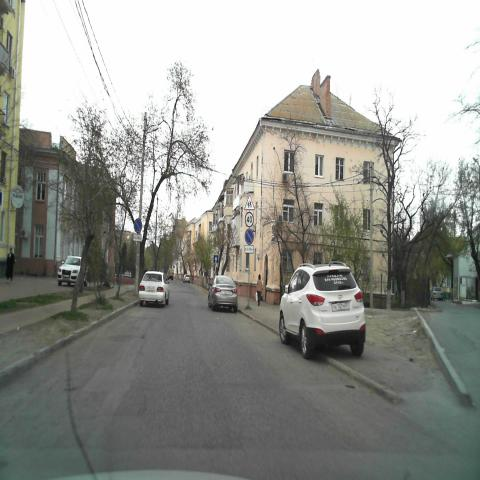8_5_4: (244, 245, 255, 254)
